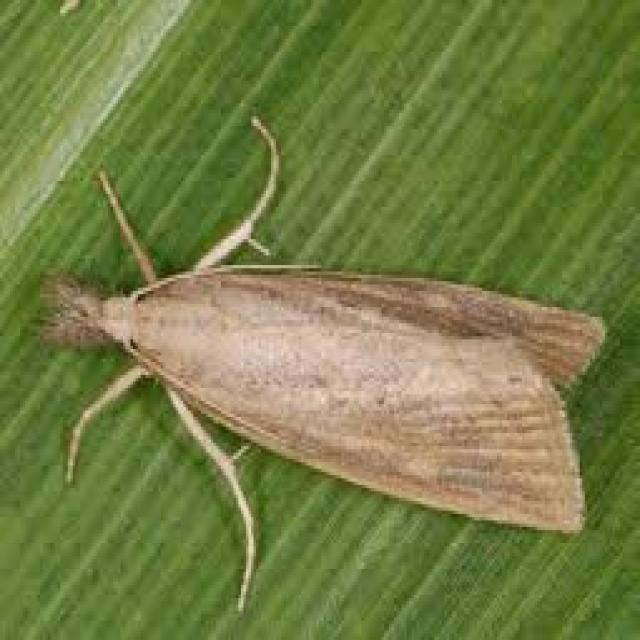yellow-stem-borer: (19, 108, 640, 609)
